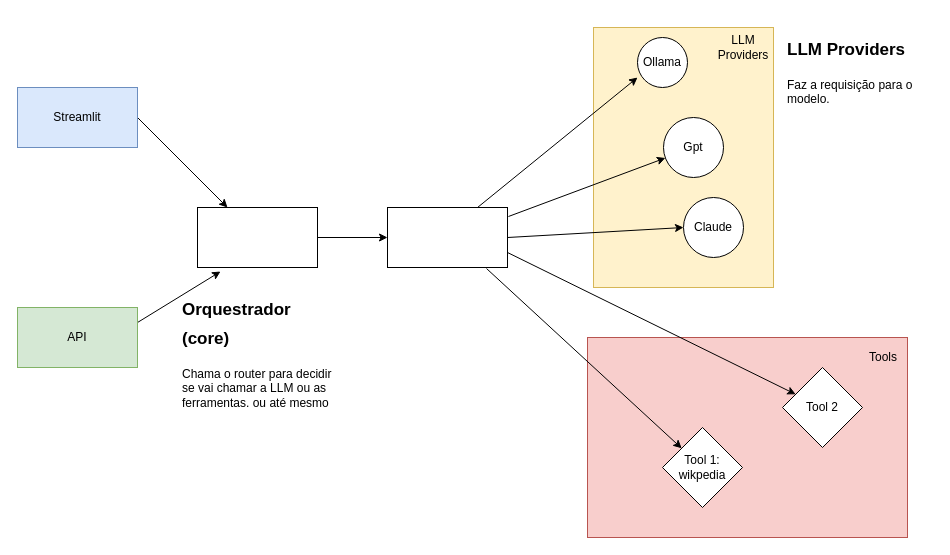
The diagram is 950 pixels wide and 555 high, and some of its shapes have lost their labels. The shapes that lost their labels are listed below. From the top down, each one's box as (x1, y1, x2, y2) in pixels, then its label:
(196, 206, 318, 268): Orquestrador (core)
(386, 206, 508, 268): Router
